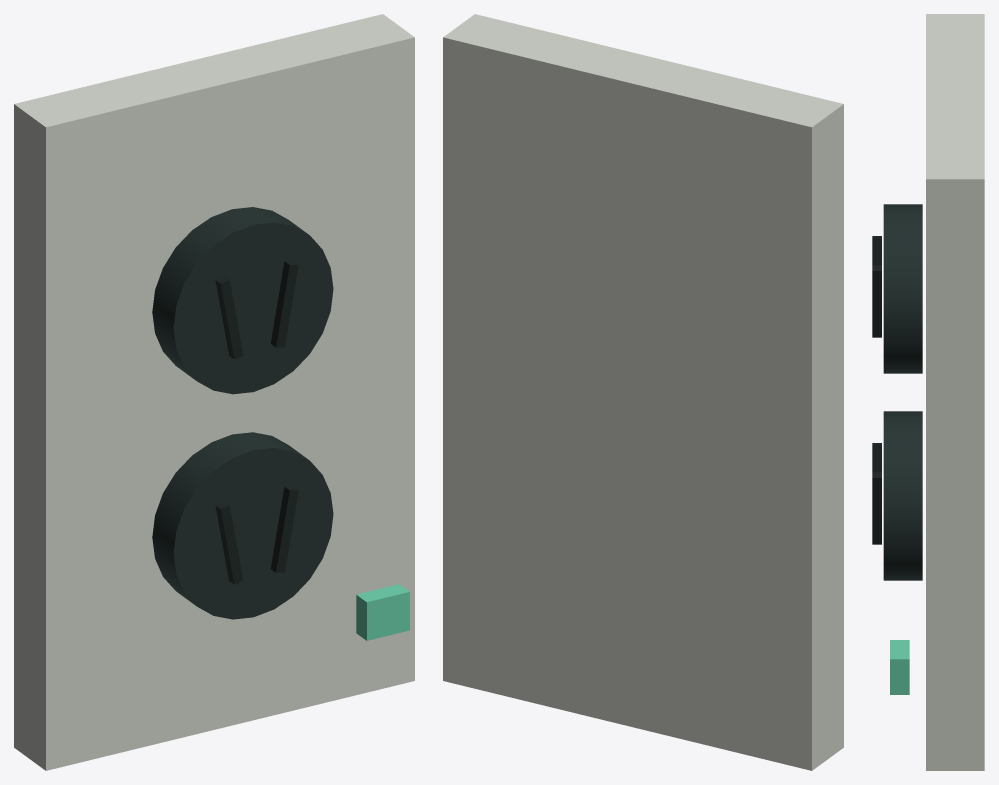
3 views of the same model, side by side, from view 1: azimuth 30°, elevation 25°; view 2: azimuth 150°, elevation 25°; view 3: azimuth 270°, elevation 25° (orthographic). The views are drawn at different scales.
Parts seen in each view (by area): view 1: back-plate, socket-ring-b, socket-ring-a, status-led, slot-b, slot-d, slot-a, slot-c; view 2: back-plate; view 3: back-plate, socket-ring-a, socket-ring-b, status-led, slot-b, slot-d, slot-a, slot-c.
Part boxes in pixels (box(x1,y1,x2,y2)): back-plate: box(14, 14, 414, 770); socket-ring-b: box(152, 432, 333, 619); socket-ring-a: box(152, 207, 333, 394); status-led: box(356, 584, 409, 640); slot-b: box(270, 261, 298, 347); slot-d: box(270, 486, 298, 572); slot-a: box(215, 276, 243, 359); slot-c: box(215, 501, 243, 584); back-plate: box(443, 14, 843, 770); back-plate: box(926, 14, 984, 770); socket-ring-a: box(883, 204, 922, 373); socket-ring-b: box(883, 411, 922, 580); status-led: box(890, 640, 909, 694); slot-b: box(872, 265, 881, 337); slot-d: box(872, 472, 881, 544); slot-a: box(872, 236, 881, 265); slot-c: box(872, 443, 881, 472).
Size of the model in its own units: 0.12 by 0.2 by 0.0345.
